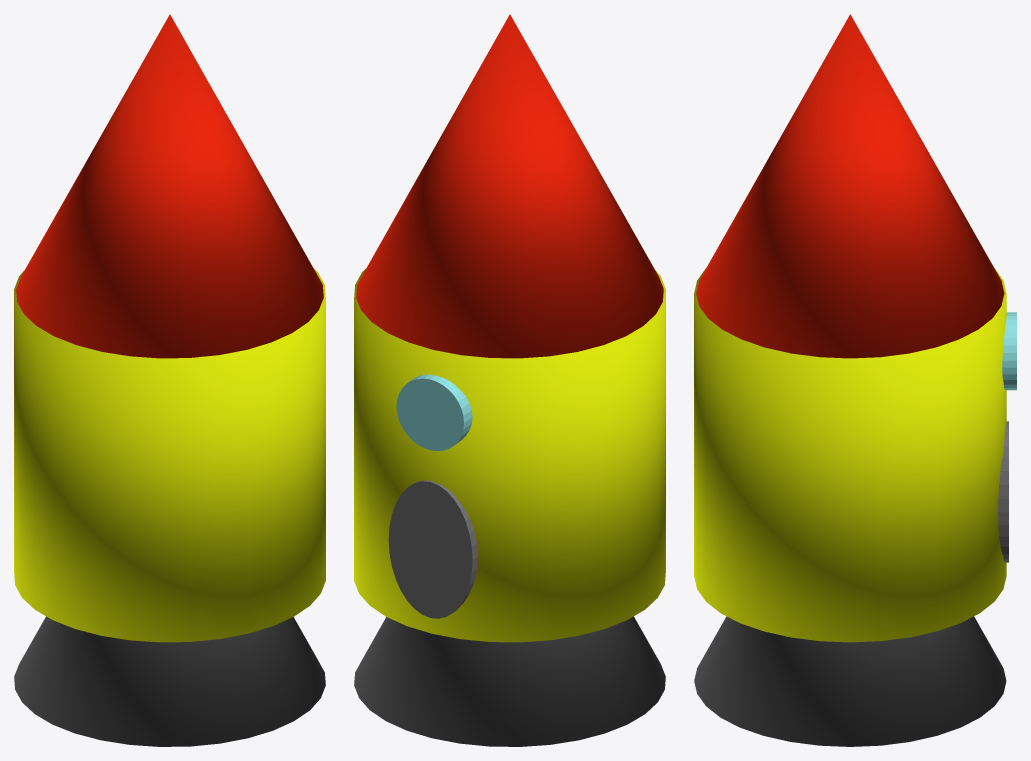
The model's file is Rocket.fbx.
3 renders of one model, left to right at view 1: azimuth 30°, elevation 25°; view 2: azimuth 150°, elevation 25°; view 3: azimuth 270°, elevation 25°, orthographic.
Parts seen in each view (by area): view 1: Cone.001; view 2: Cone.001; view 3: Cone.001.
Part boxes in pixels (<box>): Cone.001: <box>14,14,325,746</box>; Cone.001: <box>354,14,665,746</box>; Cone.001: <box>694,14,1016,746</box>.
Size of the model in its own units: 200 by 471 by 207.
